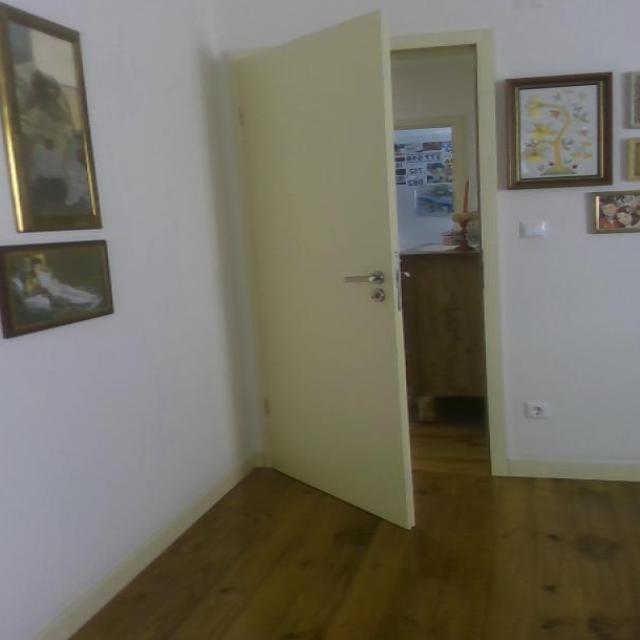Door: (226, 7, 417, 530)
